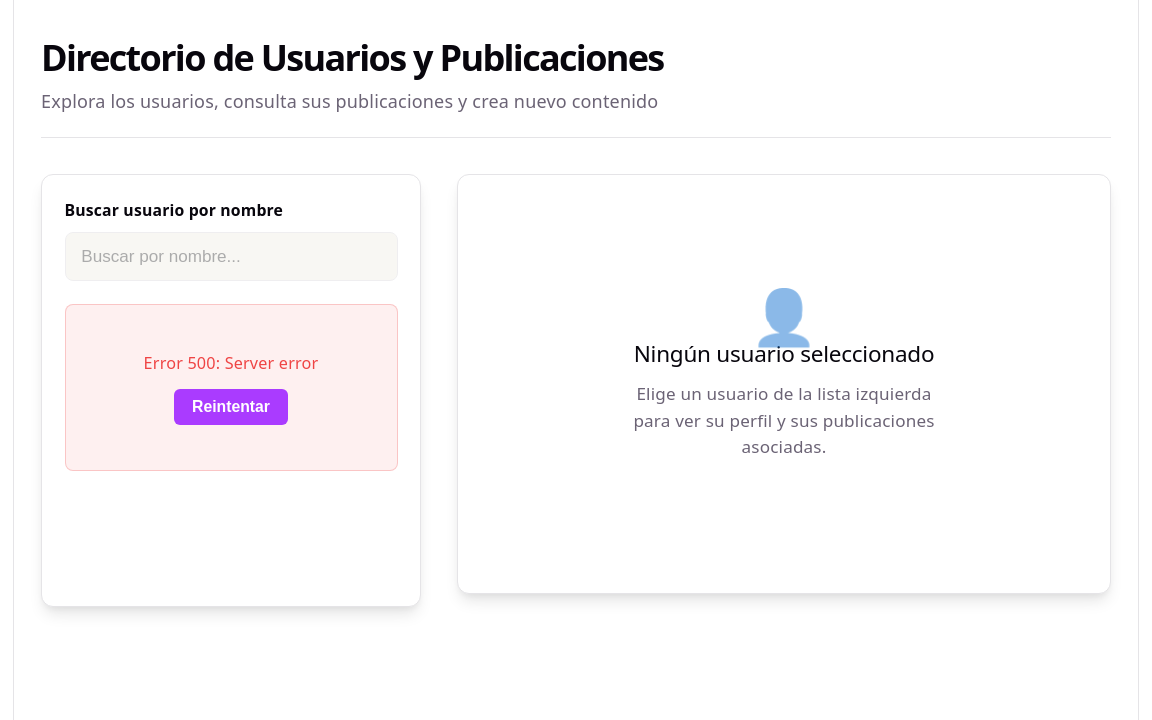
Test: App component (Integration) › gestiona errores de red y permite reintentar
Expected: the message "Error 500: Server error Reintentar" is shown, [64,304,398,472]
Expected: the text "Error 500: Server error" is shown, [144,350,318,376]
Note: Clic en reintentar
What coordinates should you click on to do the following:
click the button "Reintentar"
I would click on:
 (231, 408)
Its box is [174,390,288,426].
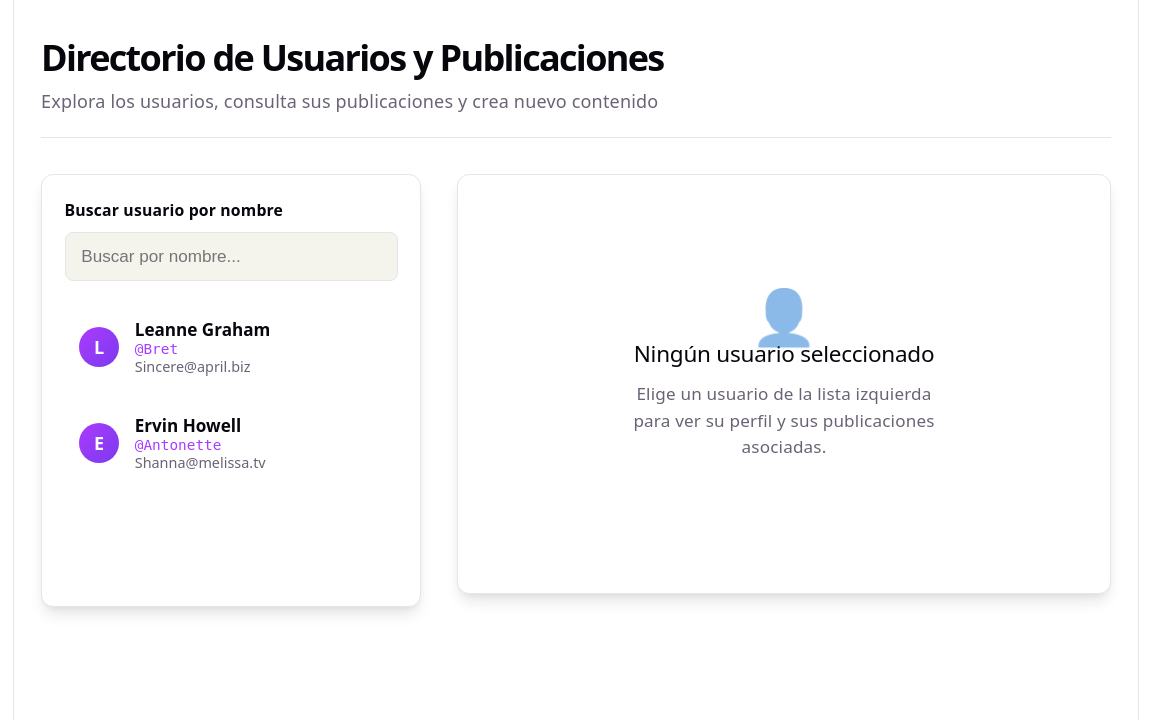
Now the text "Leanne Graham" is shown, box [135,318,270,341]
